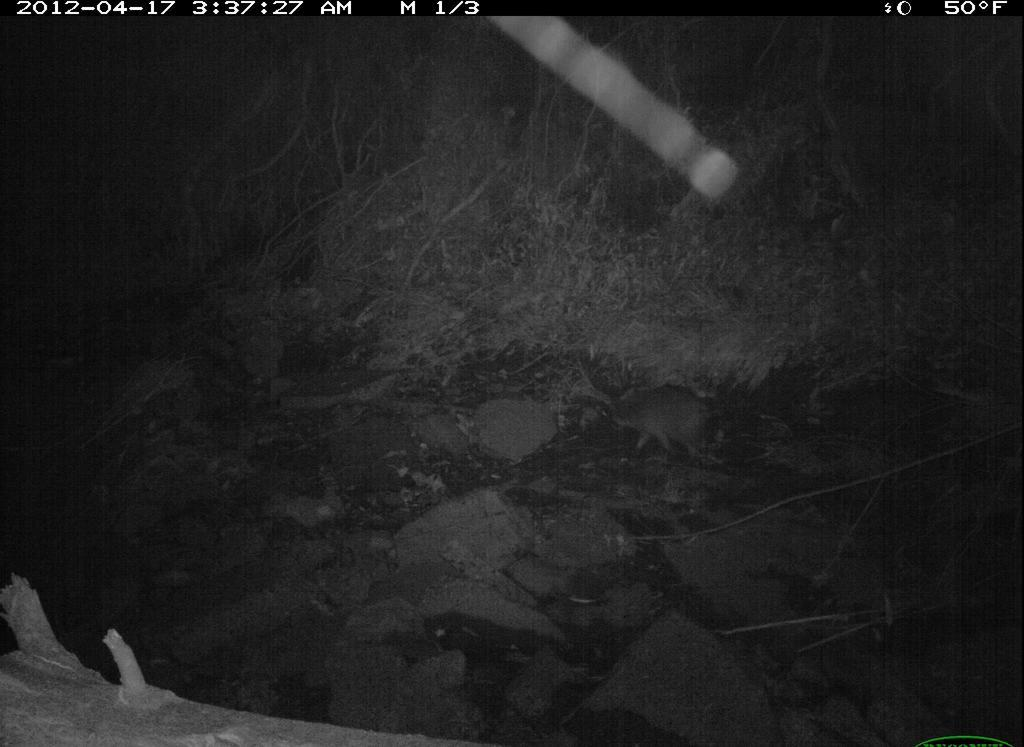raccoon: (593, 375, 753, 464)
